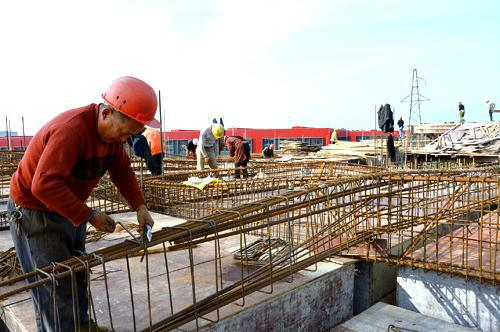helmet: (90, 68, 171, 143), (210, 123, 225, 142)
